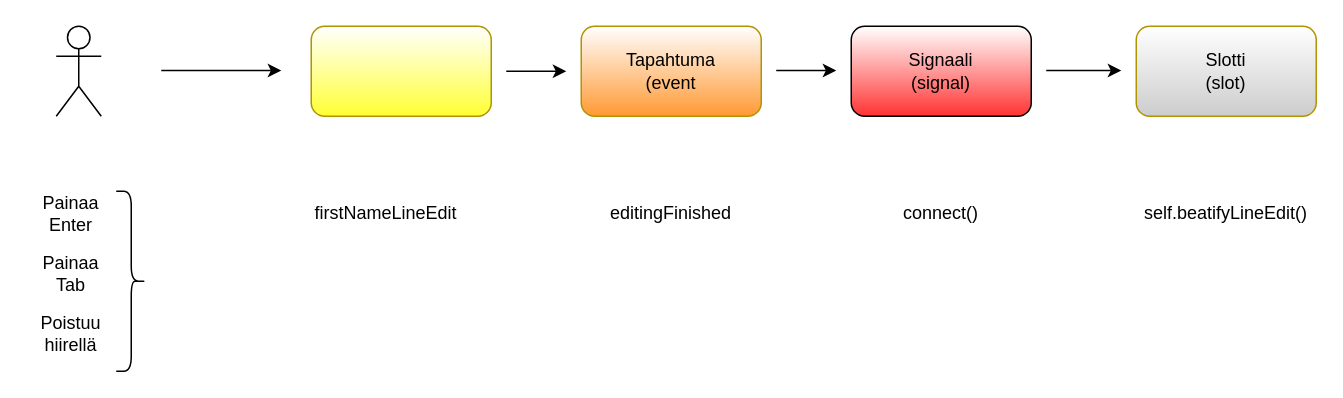
The diagram is 1343 pixels wide and 398 high, and some of its shapes have lost their labels. The centre of each missing label's shape, as x and y in pixels:
Elementti (element/widget: [400,70]
Käyttäjän toiminpide: [78,70]
